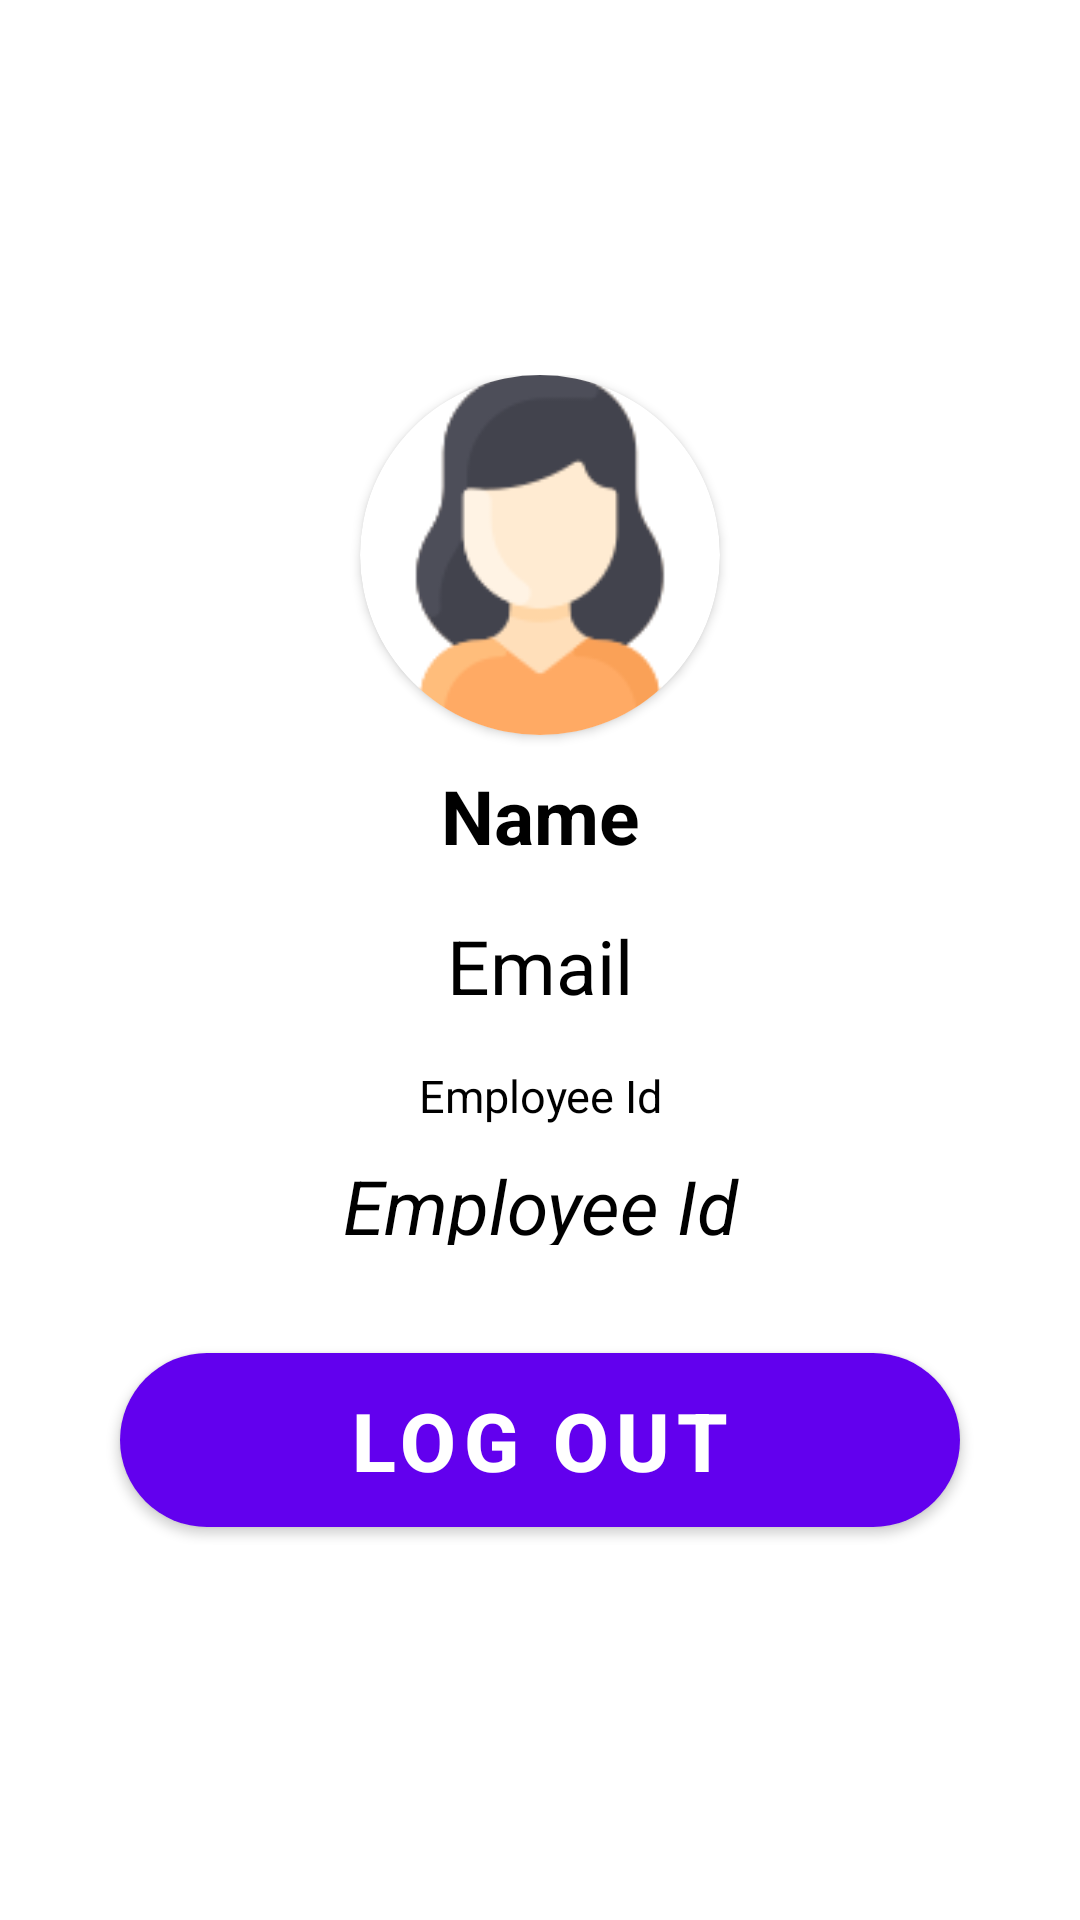

Where icons sit on this 1080w x 1920h app screen, as (x1, y1, x2, y2):
profileperson: (360, 375, 720, 735)
